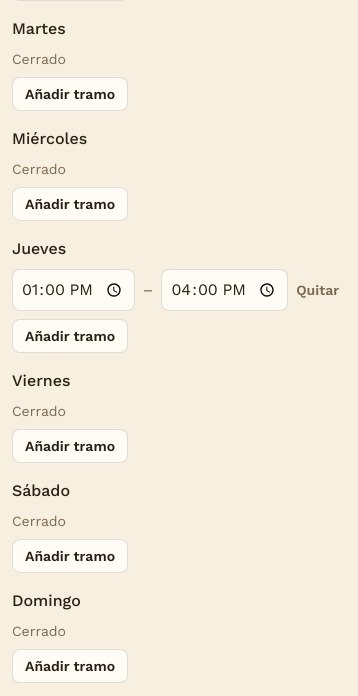
Test: FormularioAjustes › añade y quita tramos de un día
(page scrolled)
Expected: the number of buttons "Quitar" is 1, [296, 280, 339, 300]
Click the button "Añadir tramo" below "Jueves".
click(70, 336)  # box [12, 319, 128, 353]
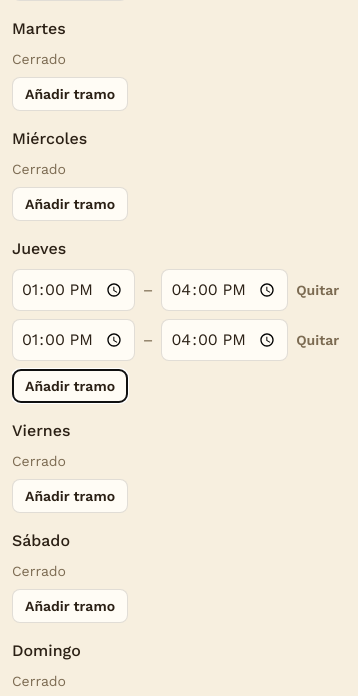
Result: the number of buttons "Quitar" is 2
Click the 1st button "Quitar".
click(318, 290)  # box [296, 280, 339, 300]
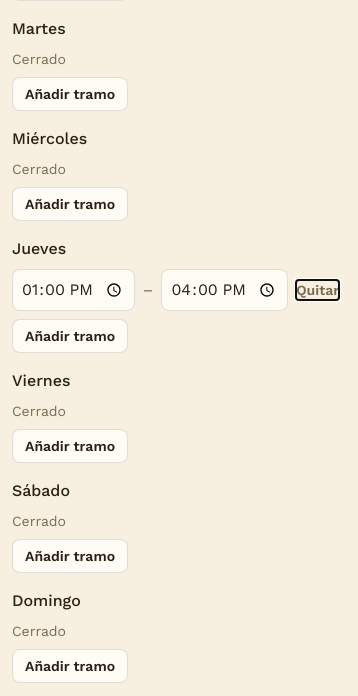
Result: the number of buttons "Quitar" is 1 at [296, 280, 339, 300]
